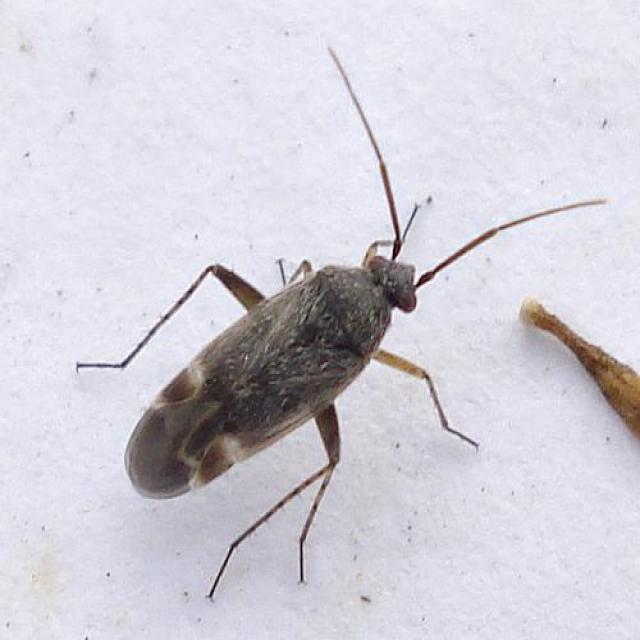Miridae-Adult-: (105, 36, 509, 538)
